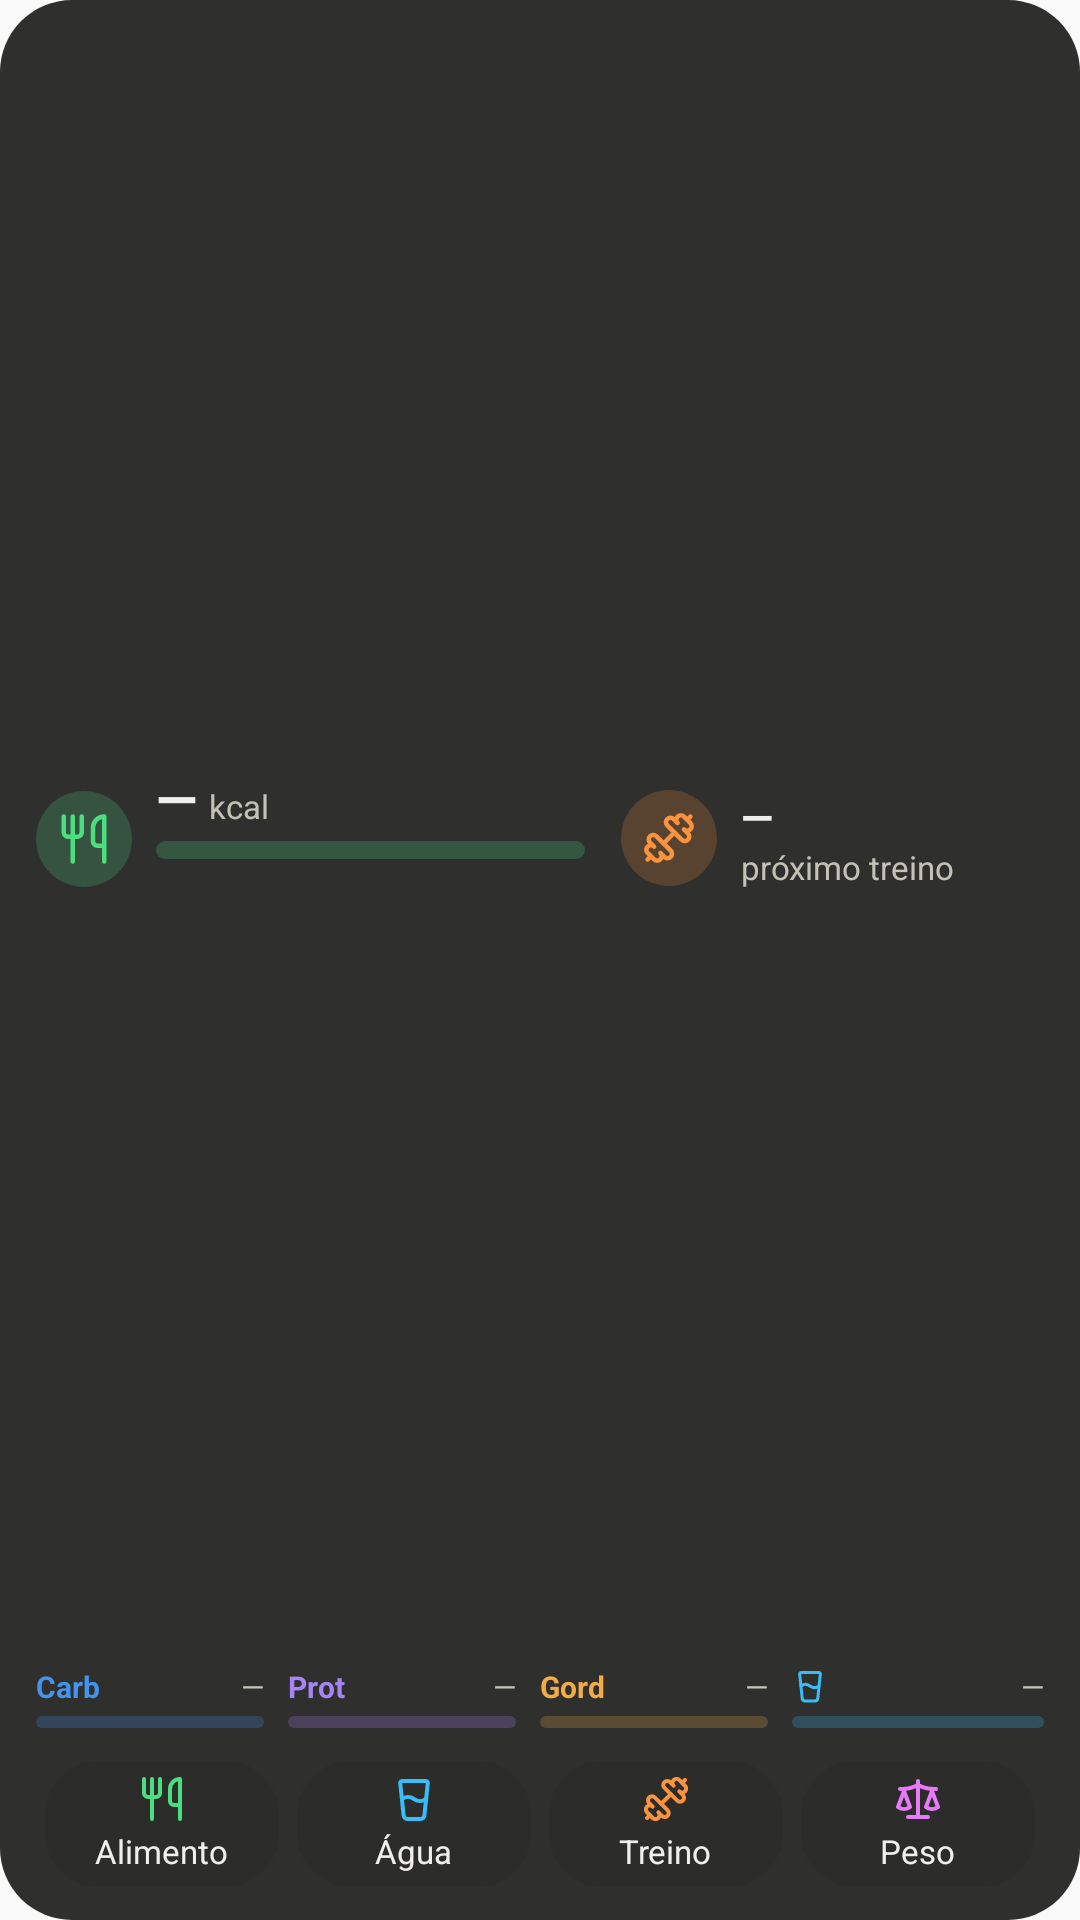

Where icons sit on this 1080 x 1920 app screen, as (x1, y1, x2, y2):
widget dumbbell: (621, 790, 717, 886), (644, 1777, 688, 1821)
widget glass water: (798, 1671, 822, 1703), (398, 1779, 430, 1821)
widget scale: (896, 1779, 940, 1819)
widget utensils: (36, 791, 132, 887), (142, 1777, 182, 1821)
